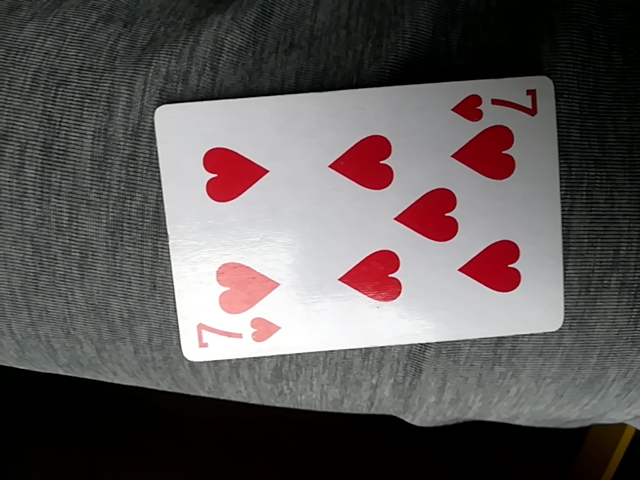hx 7: (156, 75, 569, 360)
